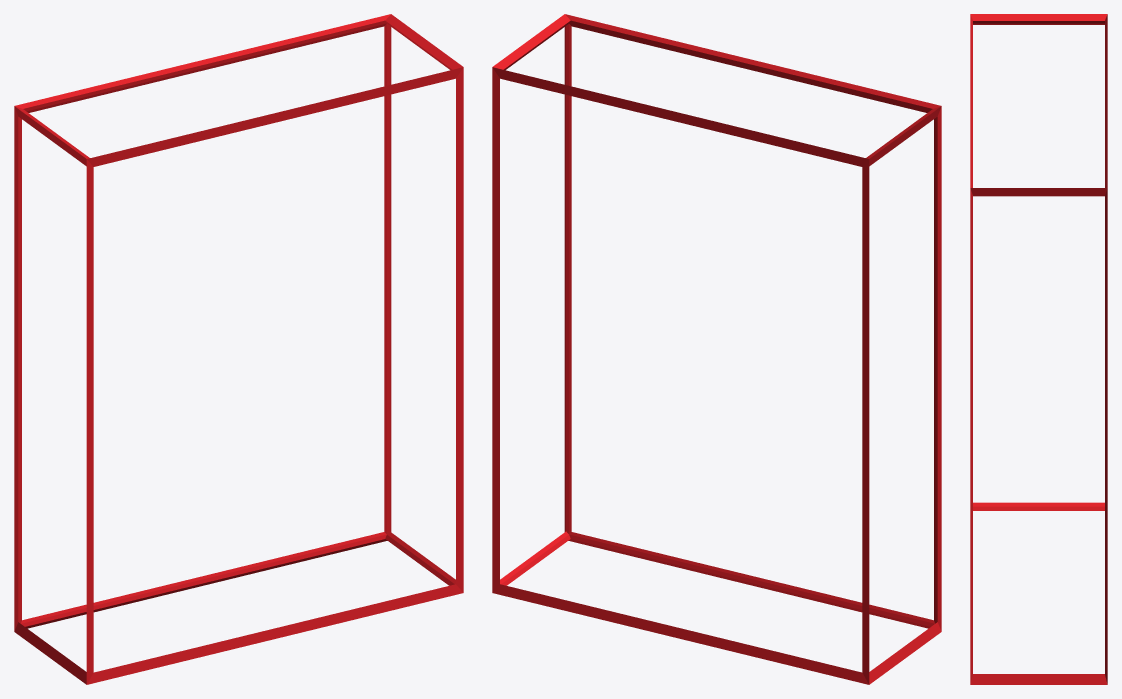
3 views of the same model, side by side, from view 1: azimuth 30°, elevation 25°; view 2: azimuth 150°, elevation 25°; view 3: azimuth 270°, elevation 25° (orthographic). The views are drawn at different scales.
Visible parts, largest first — view 1: 四角柱(邊); view 2: 四角柱(邊); view 3: 四角柱(邊).
Part boxes in pixels (box(x1,y1,x2,y2)): 四角柱(邊): box(14, 14, 463, 684); 四角柱(邊): box(492, 14, 941, 684); 四角柱(邊): box(970, 14, 1107, 684).
Size of the model in its own units: 1.89 by 2.53 by 0.6316.
